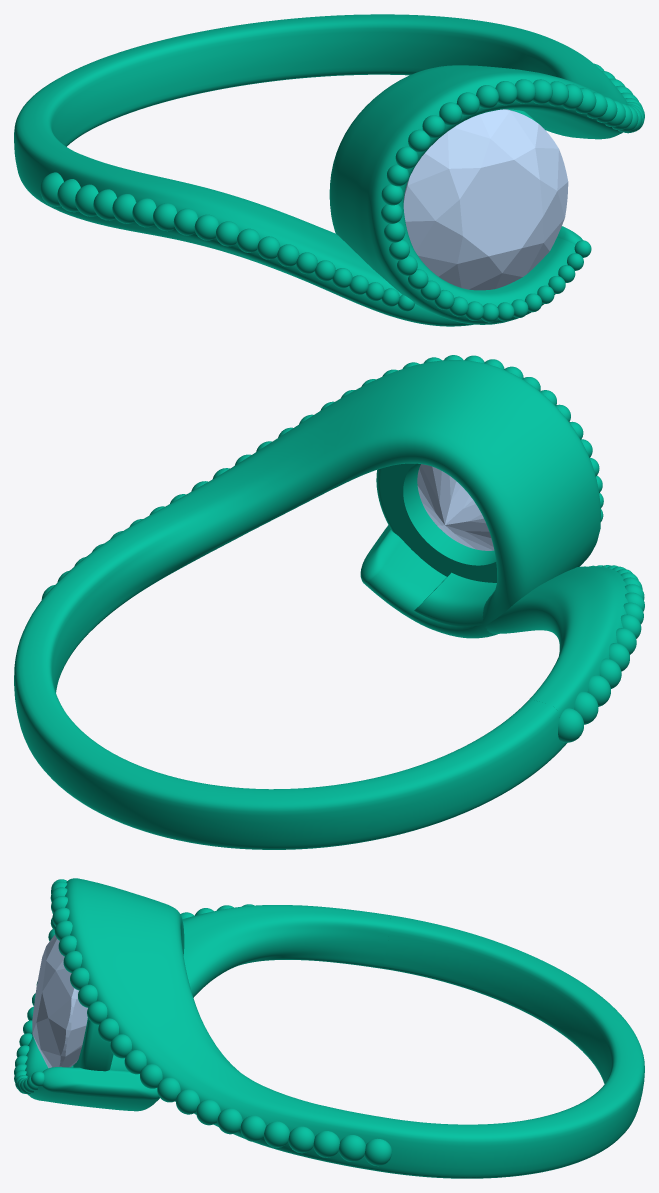
Rendered from Bypass941.glb.
3 renders of one model, top to bottom at view 1: azimuth 30°, elevation 25°; view 2: azimuth 150°, elevation 25°; view 3: azimuth 270°, elevation 25°, orthographic. The views are drawn at different scales.
Parts seen in each view (by area): view 1: Bypass.3dm, Diamond_Round, BeadOnCrv (×2); view 2: Bypass.3dm, BeadOnCrv (×2), Bezel, Diamond_Round; view 3: Bypass.3dm, BeadOnCrv, Diamond_Round, Bezel.
Boxes of the visible parts, x1,y1,x2,y2 form: Bypass.3dm: (14,14,627,326); Diamond_Round: (403,109,568,290); BeadOnCrv (×2): (40,63,644,322); Bypass.3dm: (14,360,628,849); BeadOnCrv (×2): (41,355,644,742); Bezel: (376,463,496,582); Diamond_Round: (417,464,494,550); Bypass.3dm: (25,878,644,1178); BeadOnCrv: (14,879,392,1166); Diamond_Round: (32,934,87,1068); Bezel: (73,1018,113,1071).
Size of the model in its own units: 2.53 by 1.09 by 2.9.
